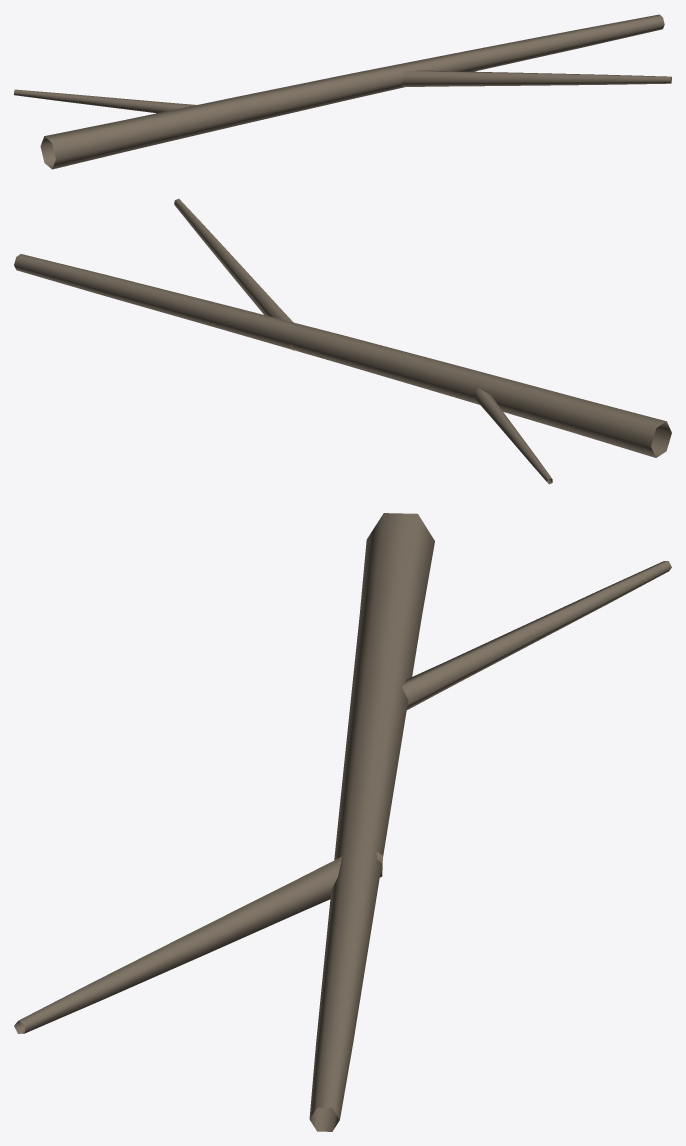
The model's file is branch.glb.
3 views of the same model, one above another, from view 1: azimuth 30°, elevation 25°; view 2: azimuth 150°, elevation 25°; view 3: azimuth 270°, elevation 25° (orthographic). The views are drawn at different scales.
Visible parts, largest first — view 1: branch; view 2: branch; view 3: branch.
Boxes of the visible parts, left/top/right/bottom form: branch: left=14, top=14, right=671, bottom=169; branch: left=14, top=198, right=671, bottom=484; branch: left=14, top=513, right=671, bottom=1131.
Bounding box in the file's own units: 1.8 × 0.0885 × 0.8639.
